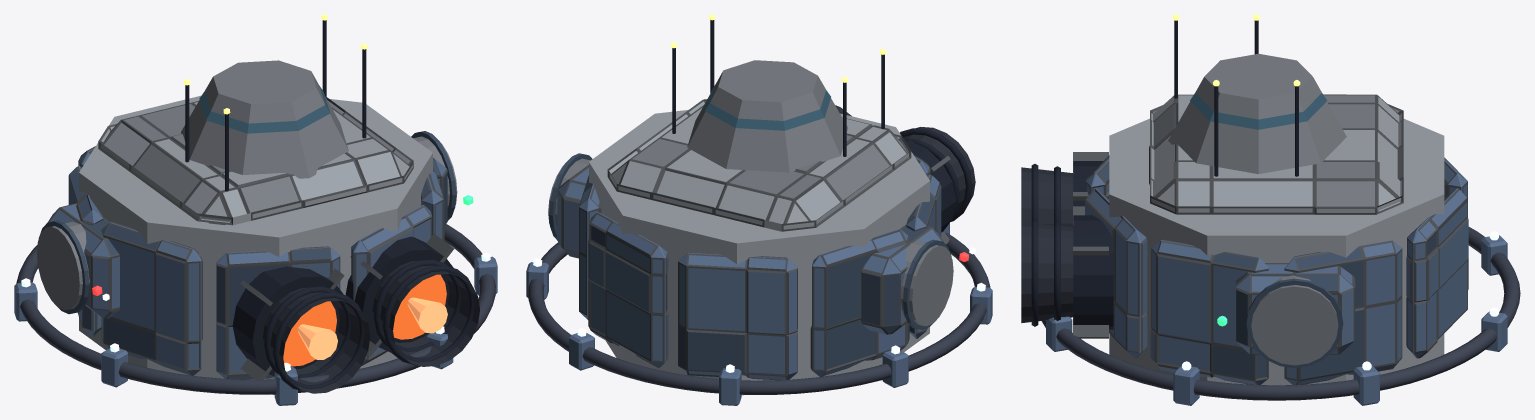
File: brick.glb
The picture shows the model from 3 angles, left to right: view 1: azimuth 30°, elevation 25°; view 2: azimuth 150°, elevation 25°; view 3: azimuth 270°, elevation 25°; orthographic projection. The views are drawn at different scales.
Parts seen in each view (by area): view 1: brick_mesh; view 2: brick_mesh; view 3: brick_mesh.
Boxes of the visible parts, bbox=[...] form: brick_mesh: bbox=[14, 14, 497, 405]; brick_mesh: bbox=[526, 14, 992, 405]; brick_mesh: bbox=[1021, 14, 1520, 405].
Bounding box in the file's own units: 7.16 × 4.95 × 7.32.
